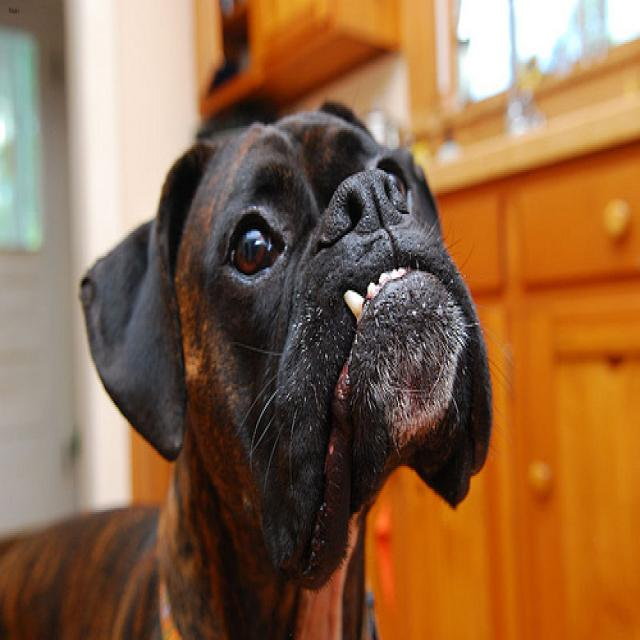dog-boxer: (1, 88, 517, 636)
